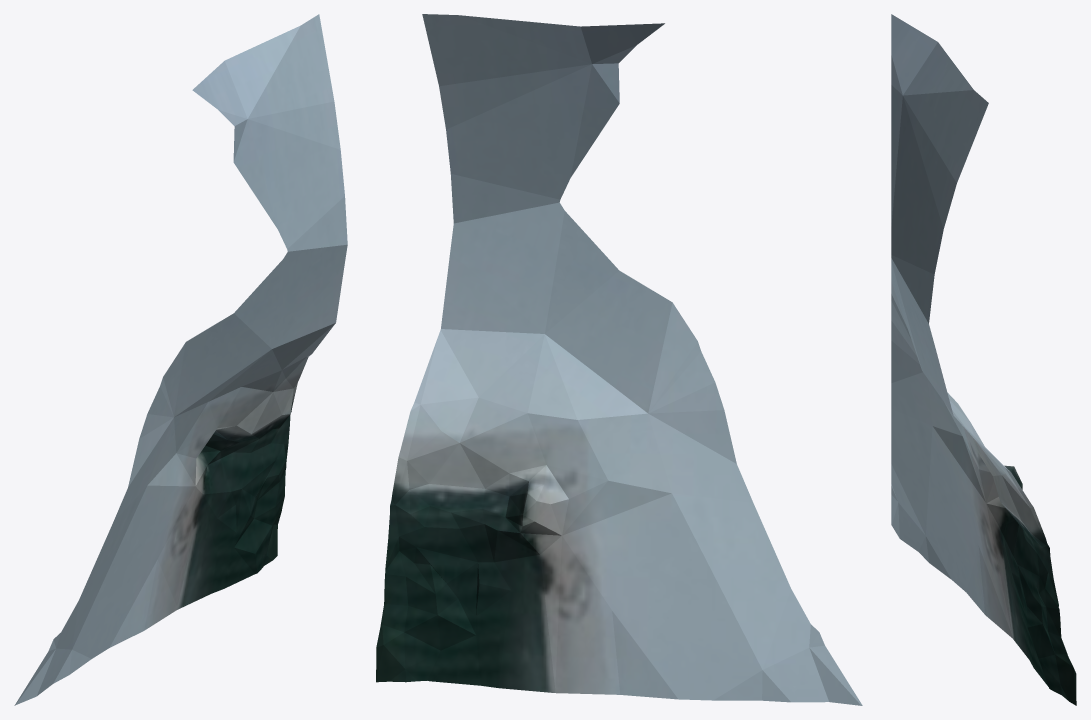
3 views of the same model, side by side, from view 1: azimuth 30°, elevation 25°; view 2: azimuth 150°, elevation 25°; view 3: azimuth 270°, elevation 25° (orthographic). The views are drawn at different scales.
Bounding box in the file's own units: 1.08 × 1.67 × 0.466.
1 material, 1 textured.
